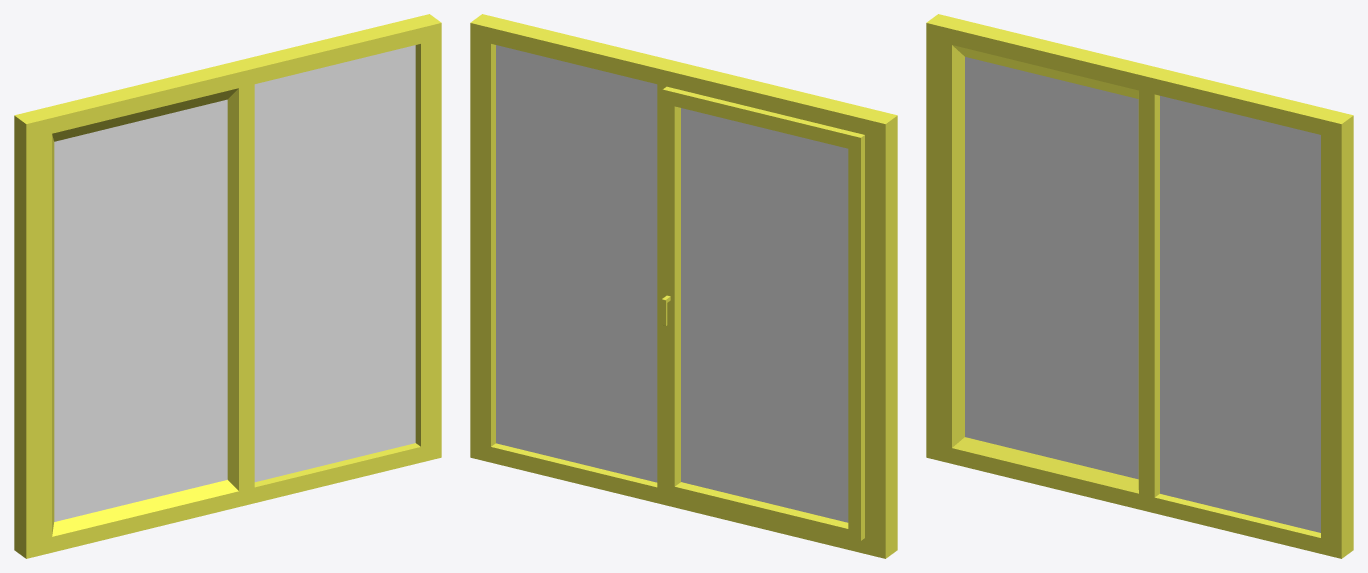
Rendered from Windows_Plastick.fbx.
The picture shows the model from 3 angles, left to right: view 1: azimuth 30°, elevation 25°; view 2: azimuth 150°, elevation 25°; view 3: azimuth 330°, elevation 25°; orthographic projection.
Parts seen in each view (by area): view 1: Windows_Plastick_LOD0; view 2: Windows_Plastick_LOD0; view 3: Windows_Plastick_LOD0.
Part boxes in pixels (box(x1,y1,x2,y2)): Windows_Plastick_LOD0: box(14, 14, 441, 558); Windows_Plastick_LOD0: box(470, 14, 897, 558); Windows_Plastick_LOD0: box(926, 14, 1353, 558).
Size of what is drawn, in the model's own units: 300 by 300 by 26.22.
